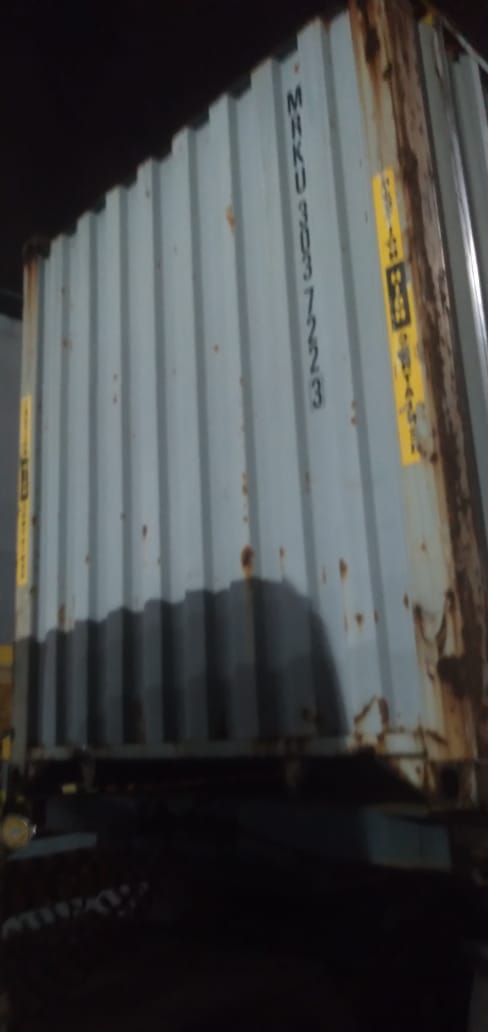rust: (415, 610, 476, 724), (222, 546, 265, 577)
